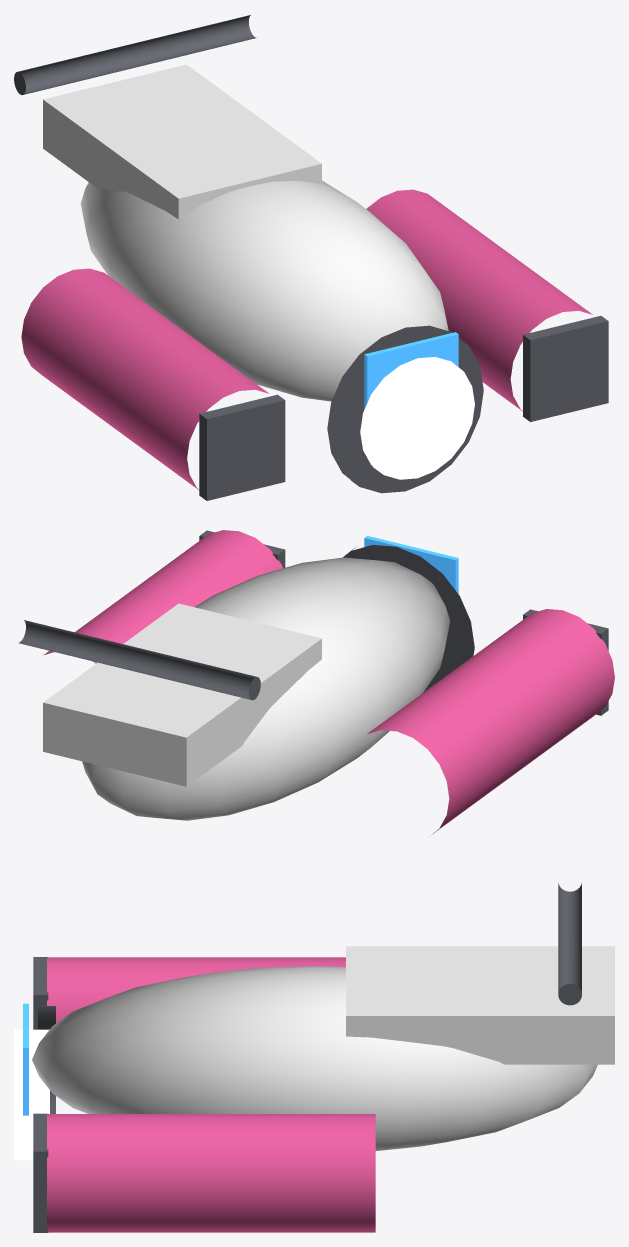
Rendered from bike.glb.
3 renders of one model, top to bottom at view 1: azimuth 30°, elevation 25°; view 2: azimuth 150°, elevation 25°; view 3: azimuth 270°, elevation 25°, orthographic.
Bounding box in the file's own units: 1.64 × 0.92 × 2.01.
